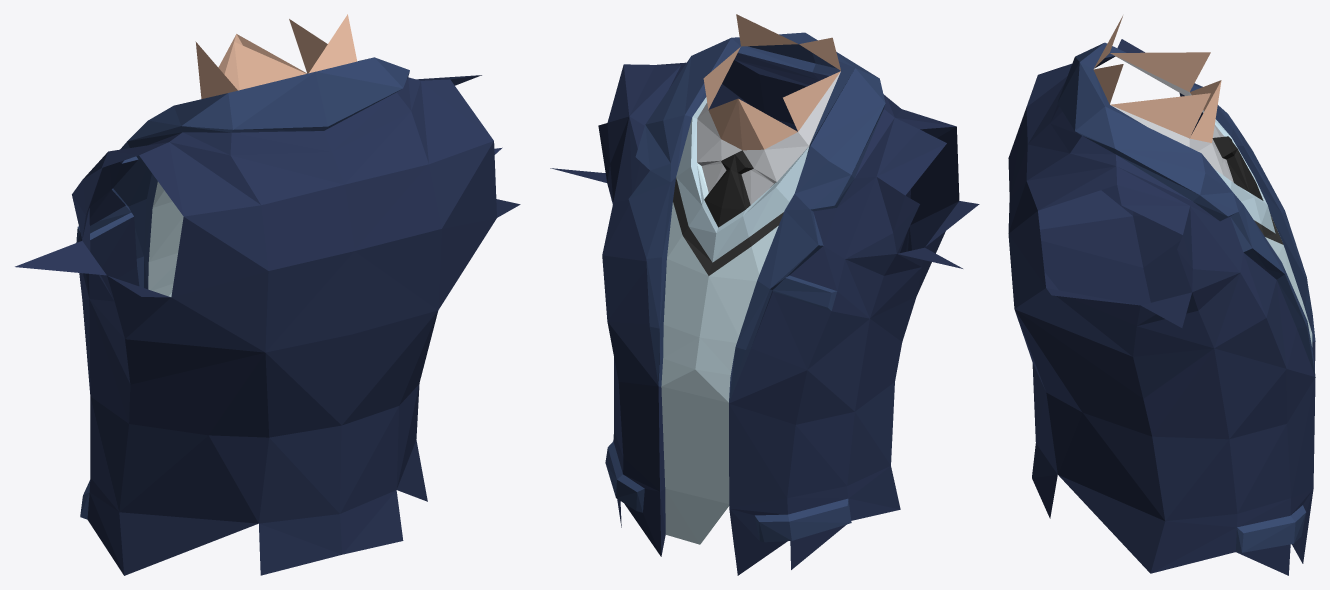
The model's file is Torso.obj.
3 views of the same model, side by side, from view 1: azimuth 30°, elevation 25°; view 2: azimuth 150°, elevation 25°; view 3: azimuth 270°, elevation 25° (orthographic). The views are drawn at different scales.
Bounding box in the file's own units: 0.5758 × 0.6347 × 0.3491.
Materials: 1 (1 with a texture image).
